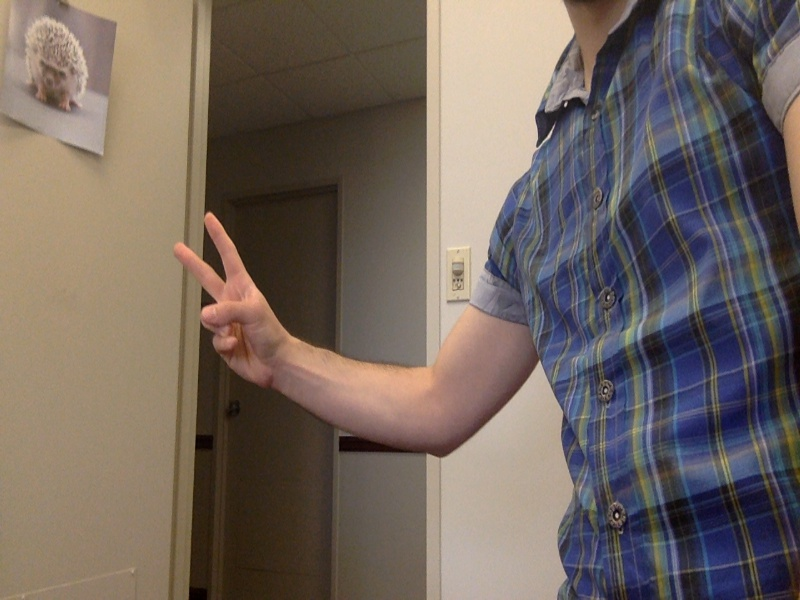2-hand: (173, 211, 279, 396)
